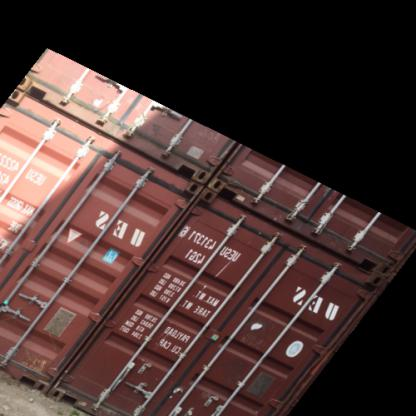Damage: (13, 339, 65, 378)
